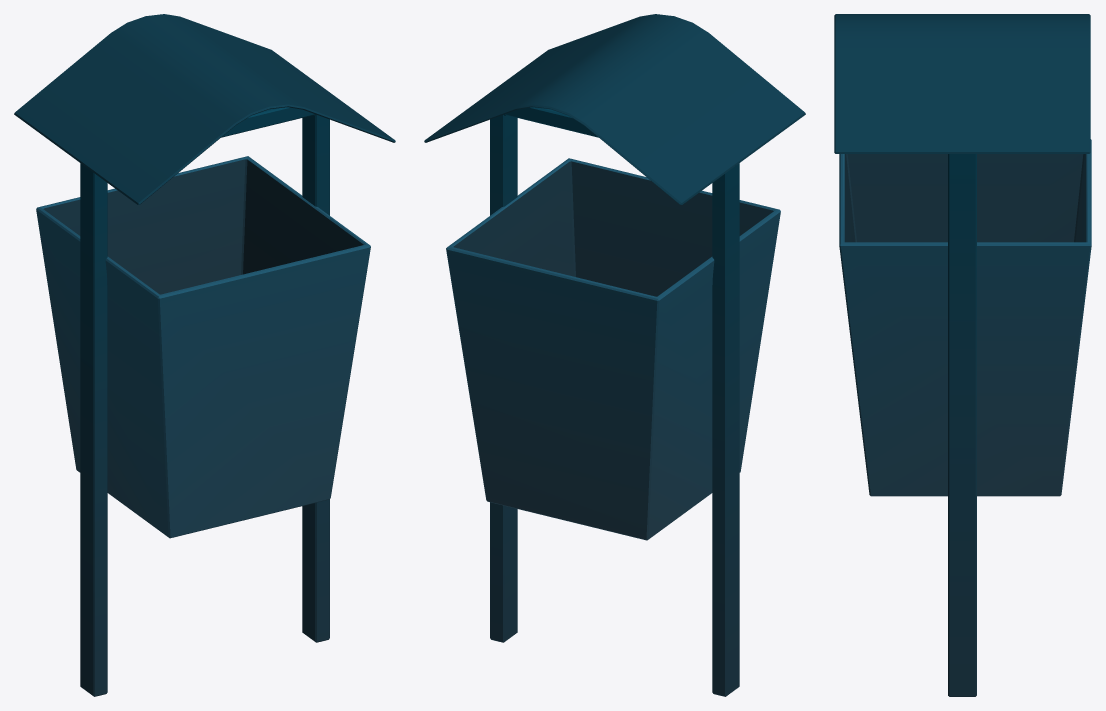
The model's file is The urn.fbx.
3 views of the same model, side by side, from view 1: azimuth 30°, elevation 25°; view 2: azimuth 150°, elevation 25°; view 3: azimuth 270°, elevation 25° (orthographic). The views are drawn at different scales.
Parts seen in each view (by area): view 1: The urn; view 2: The urn; view 3: The urn.
Boxes of the visible parts, x1,y1,x2,y2 form: The urn: (14, 14, 395, 696); The urn: (424, 14, 805, 696); The urn: (834, 14, 1091, 696).
Size of the model in its own units: 149 by 333 by 126.
